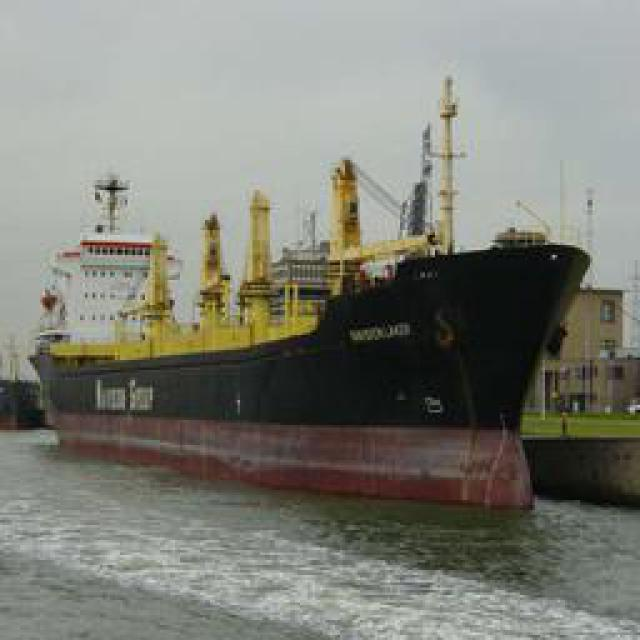Ship: (42, 217, 592, 507)
